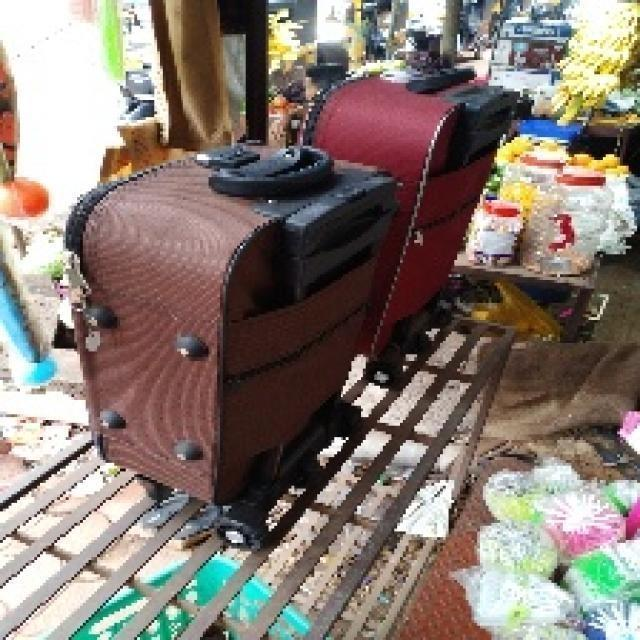Suitcase: (68, 140, 394, 532), (314, 61, 521, 362)
